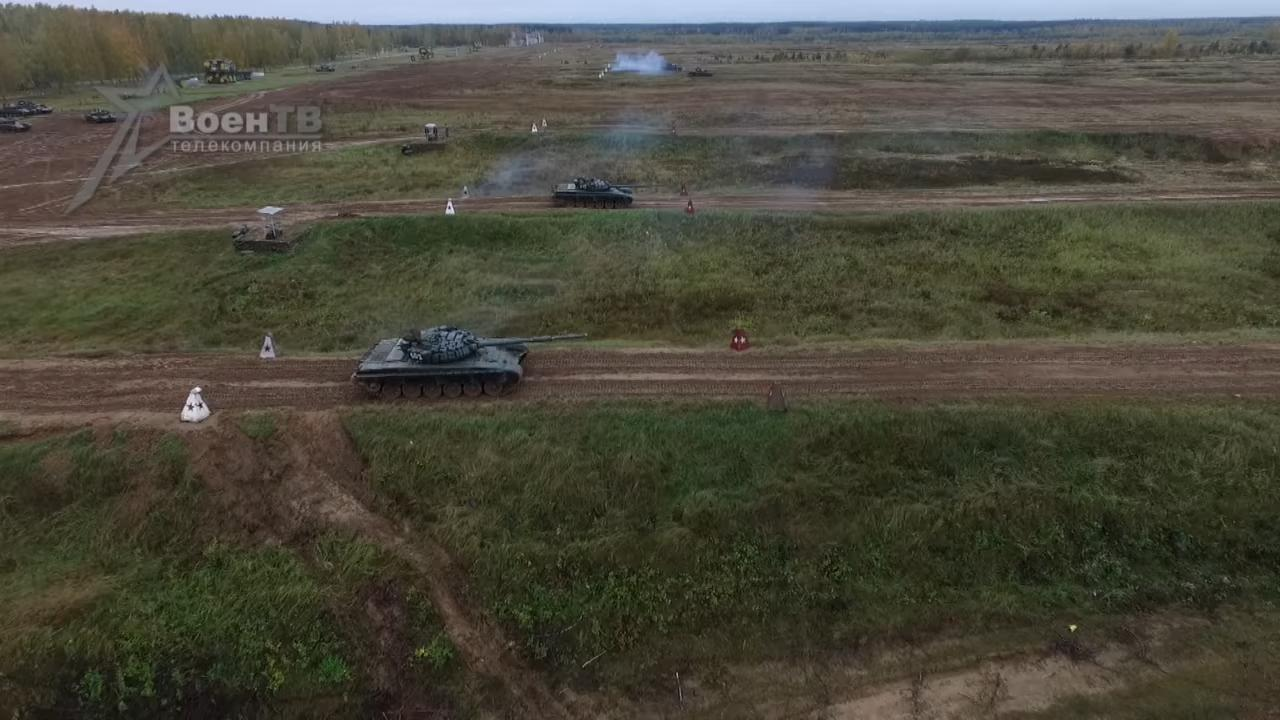tank: (351, 325, 589, 400), (552, 177, 664, 208), (87, 109, 117, 123)
